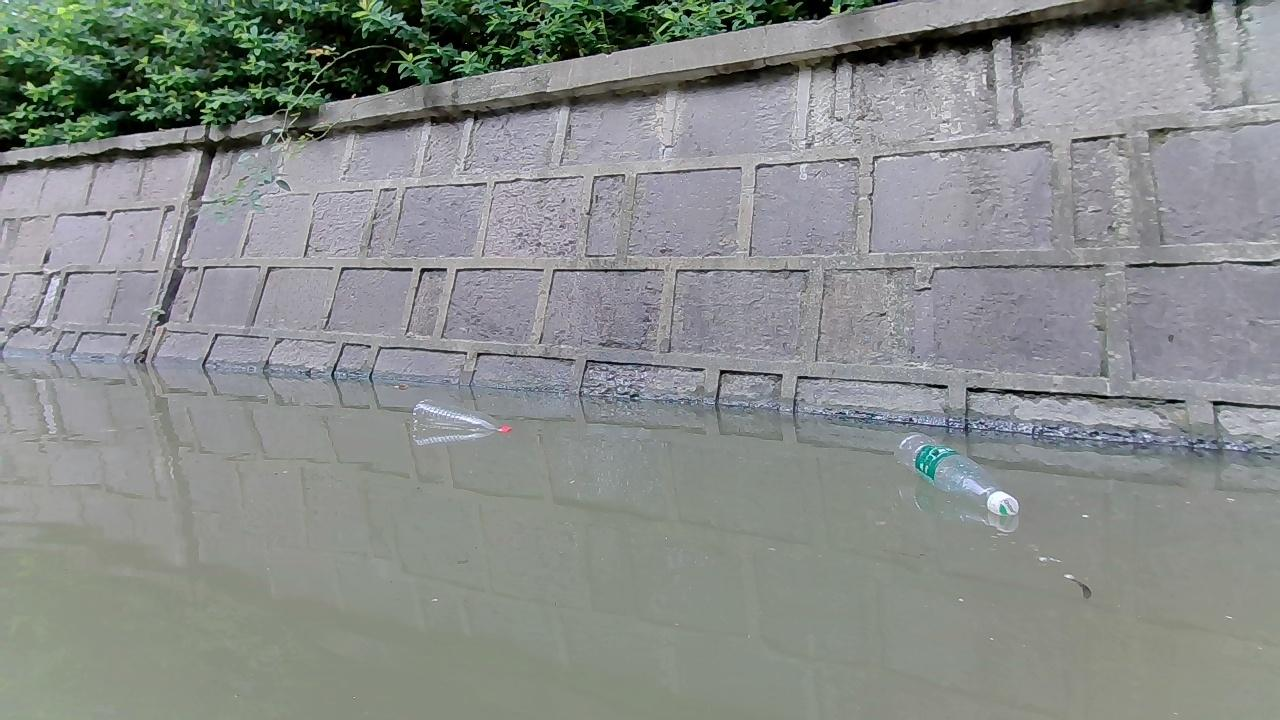bottle: (896, 429, 1017, 518), (407, 397, 513, 440)
